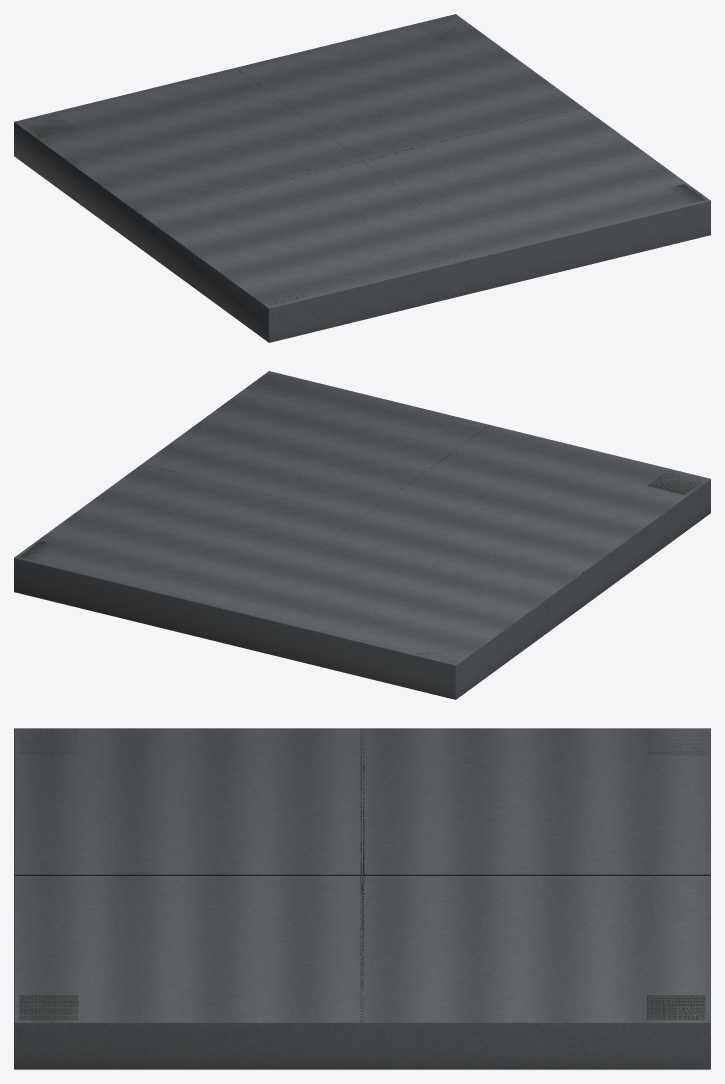
Rendered from WK_FLOOR_SLAB_A_01.glb.
3 renders of one model, top to bottom at view 1: azimuth 30°, elevation 25°; view 2: azimuth 150°, elevation 25°; view 3: azimuth 270°, elevation 25°, orthographic. The views are drawn at different scales.
Parts seen in each view (by area): view 1: WK_FLOOR_SLAB_A_01; view 2: WK_FLOOR_SLAB_A_01; view 3: WK_FLOOR_SLAB_A_01.
Part boxes in pixels (<box>): WK_FLOOR_SLAB_A_01: <box>14,14,710,342</box>; WK_FLOOR_SLAB_A_01: <box>14,371,710,699</box>; WK_FLOOR_SLAB_A_01: <box>14,728,710,1069</box>.
Bounding box in the file's own units: 4 × 0.3 × 4.
2 materials, 2 textured.
